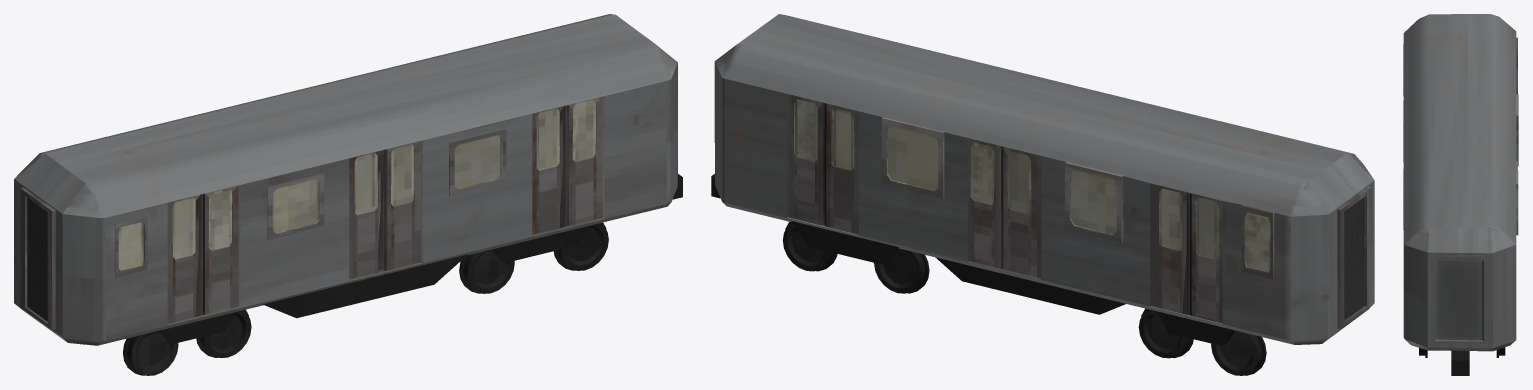
File: SubwayTrain.fbx
3 views of the same model, side by side, from view 1: azimuth 30°, elevation 25°; view 2: azimuth 150°, elevation 25°; view 3: azimuth 270°, elevation 25° (orthographic). The views are drawn at different scales.
Visible parts, largest first — view 1: pCube1, pCube63, pCube26, pCube28, pCube30, pCube49, pCube29, pCube25, pCube27, pCube37, pCube38, pCylinder21 (+4 smaller); view 2: pCube1, pCube63, pCube33, pCube32, pCube36, pCube39, pCube35, pCube49, pCube34, pCube31, pCube40, pCube41 (+4 smaller); view 3: pCube1, pCube24, pCube39, pCube40, pCube41.
Part boxes in pixels (left/top/right/bottom): pCube1: left=14, top=14, right=677, bottom=345; pCube63: left=160, top=225, right=591, bottom=344; pCube26: left=384, top=140, right=422, bottom=270; pCube28: left=566, top=96, right=604, bottom=226; pCube30: left=202, top=185, right=240, bottom=314; pCube49: left=20, top=187, right=55, bottom=329; pCube29: left=167, top=194, right=202, bottom=323; pCube25: left=349, top=150, right=383, bottom=279; pCube27: left=532, top=105, right=565, bottom=234; pCube37: left=267, top=173, right=324, bottom=240; pCube38: left=449, top=129, right=506, bottom=195; pCylinder21: left=123, top=330, right=178, bottom=375; pCube1: left=714, top=14, right=1374, bottom=344; pCube63: left=791, top=221, right=1234, bottom=345; pCube33: left=1001, top=146, right=1041, bottom=278; pCube32: left=1150, top=183, right=1189, bottom=314; pCube36: left=787, top=94, right=824, bottom=225; pCube39: left=881, top=117, right=944, bottom=198; pCube35: left=824, top=103, right=858, bottom=234; pCube49: left=1337, top=186, right=1371, bottom=328; pCube34: left=968, top=138, right=1001, bottom=268; pCube31: left=1189, top=193, right=1222, bottom=323; pCube40: left=1065, top=162, right=1123, bottom=242; pCube41: left=1241, top=205, right=1274, bottom=279; pCube1: left=1403, top=14, right=1516, bottom=351; pCube24: left=1451, top=350, right=1469, bottom=375; pCube39: left=1516, top=161, right=1518, bottom=235; pCube40: left=1516, top=94, right=1518, bottom=166; pCube41: left=1516, top=37, right=1517, bottom=94.
Bounding box in the file's own units: 17.58 × 5.39 × 3.58.
